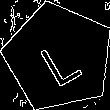L_NW: (32, 27, 85, 87)
